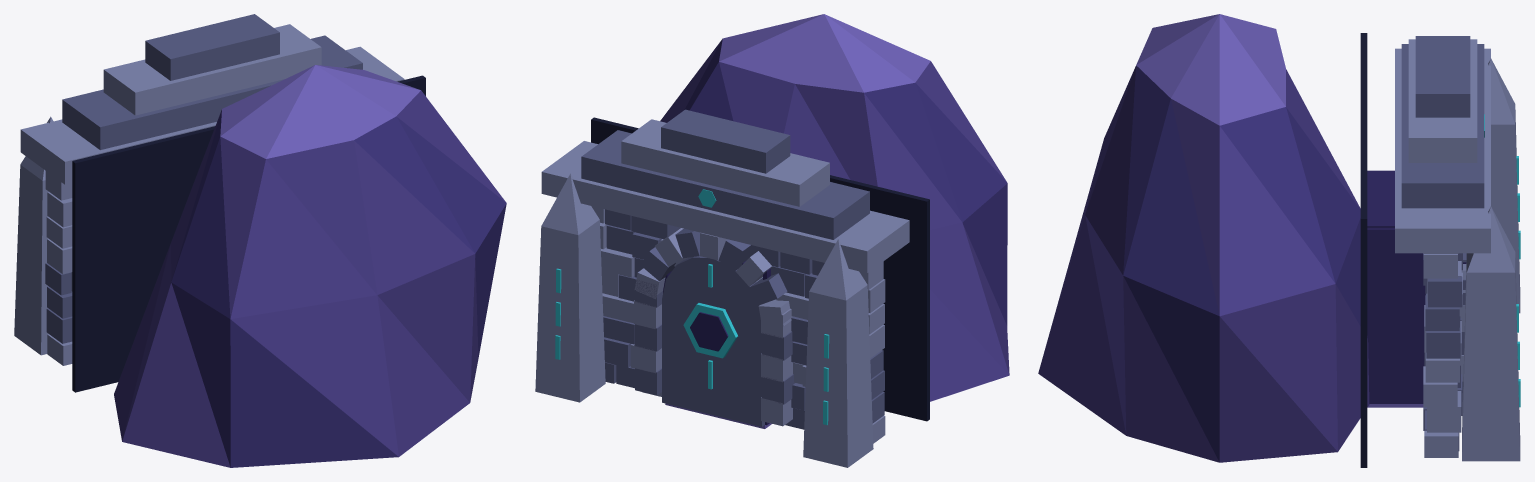
File: Mine_Door_Stone_Sealed.obj
3 renders of one model, left to right at view 1: azimuth 30°, elevation 25°; view 2: azimuth 150°, elevation 25°; view 3: azimuth 270°, elevation 25°, orthographic. The views are drawn at different scales.
Parts seen in each view (by area): view 1: Mine_Door_Stone_Sealed; view 2: Mine_Door_Stone_Sealed; view 3: Mine_Door_Stone_Sealed.
Boxes of the visible parts, x1=… form: Mine_Door_Stone_Sealed: x1=14, y1=14, x2=506, y2=467; Mine_Door_Stone_Sealed: x1=535, y1=14, x2=1009, y2=467; Mine_Door_Stone_Sealed: x1=1038, y1=14, x2=1520, y2=467.
Bounding box in the file's own units: 7.02 × 5.88 × 7.03.
